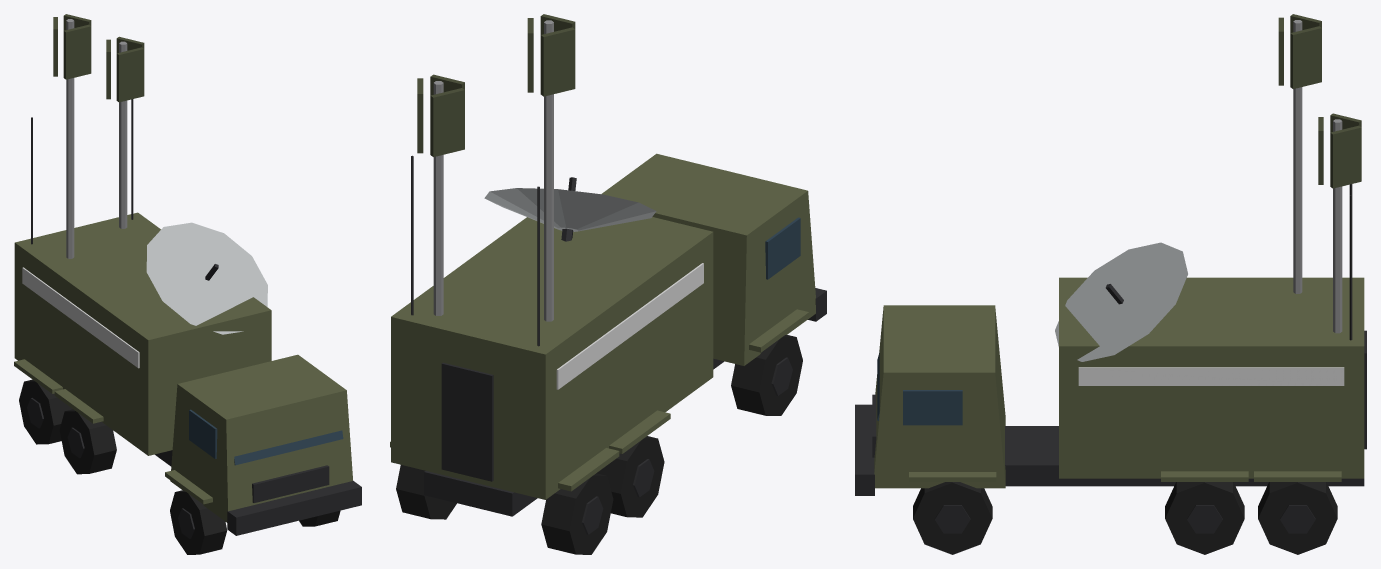
3 renders of one model, left to right at view 1: azimuth 30°, elevation 25°; view 2: azimuth 150°, elevation 25°; view 3: azimuth 270°, elevation 25°, orthographic. The views are drawn at different scales.
Parts seen in each view (by area): view 1: Body; view 2: Body; view 3: Body.
Boxes of the visible parts, x1,y1,x2,y2 form: Body: (14, 14, 361, 554); Body: (390, 14, 826, 554); Body: (855, 14, 1366, 554).
Bounding box in the file's own units: 3.07 × 7.9 × 7.71.
